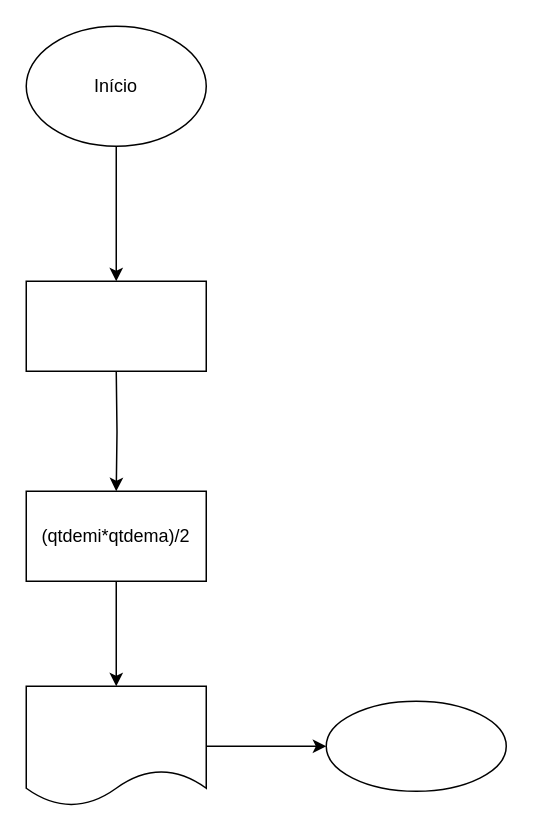
Some shapes in this 533 by 833 pixel diagram are drawn without their labels. The centre of each missing label's shape, as x and y in pixels:
qtdemi,qtdema: (x=115, y=325)
valor: (x=115, y=745)
